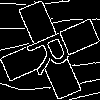R: (25, 25, 82, 77)
